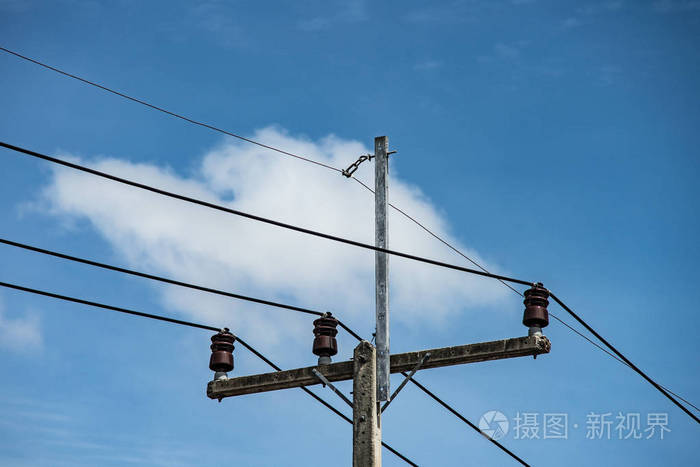insulator: (520, 287, 553, 328), (210, 330, 236, 374), (310, 317, 341, 353)
